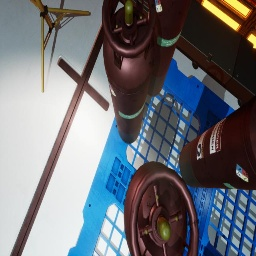NitrogenTank ,: (102, 0, 156, 144), (179, 95, 256, 190), (124, 161, 199, 256), (147, 0, 192, 97)
